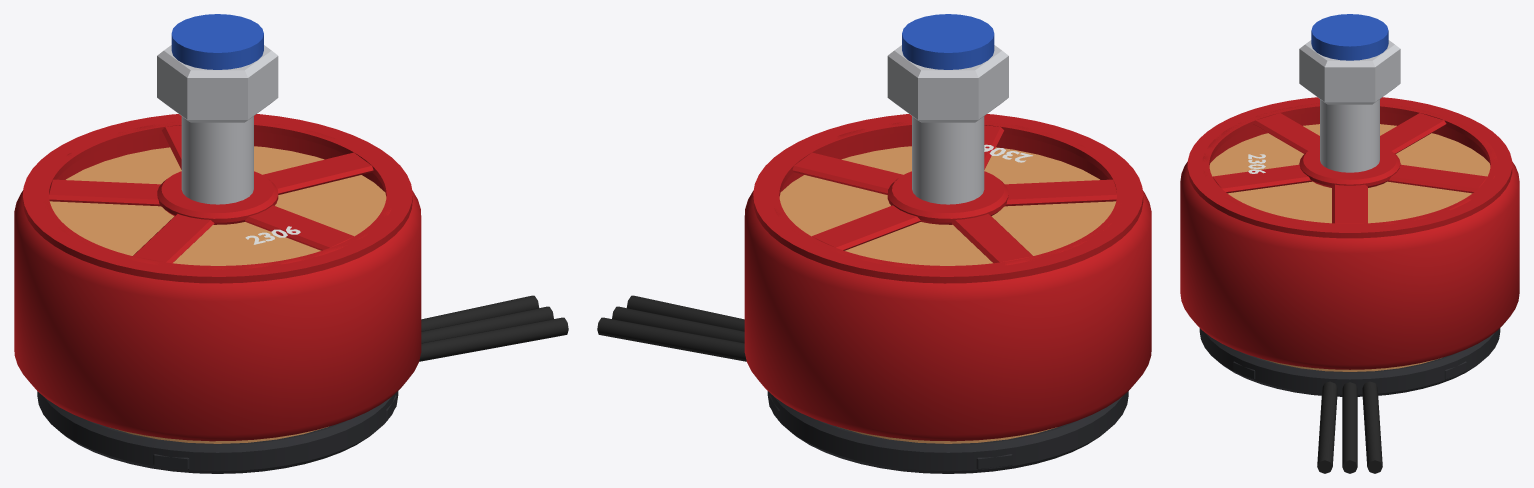
The model's file is motor_m2306.glb.
3 views of the same model, side by side, from view 1: azimuth 30°, elevation 25°; view 2: azimuth 150°, elevation 25°; view 3: azimuth 270°, elevation 25° (orthographic). The views are drawn at different scales.
Parts seen in each view (by area): view 1: motor_campana, motor_techo, techo_cobre, motor_base, motor_tuerca, motor_cables, motor_eje, tuerca_nylon; view 2: motor_campana, motor_techo, techo_cobre, motor_base, motor_tuerca, motor_cables, motor_eje, tuerca_nylon; view 3: motor_campana, motor_techo, techo_cobre, motor_base, motor_tuerca, motor_cables, motor_eje, tuerca_nylon, motor_bobinado.
Boxes of the visible parts, x1,y1,x2,y2 form: motor_campana: [14, 122, 421, 441]; motor_techo: [22, 114, 412, 283]; techo_cobre: [49, 146, 386, 265]; motor_base: [37, 391, 398, 473]; motor_tuerca: [157, 45, 278, 122]; motor_cables: [419, 295, 568, 361]; motor_eje: [181, 116, 253, 204]; tuerca_nylon: [171, 14, 263, 69]; motor_campana: [744, 121, 1151, 441]; motor_techo: [753, 114, 1143, 283]; techo_cobre: [779, 146, 1116, 265]; motor_base: [767, 391, 1128, 473]; motor_tuerca: [887, 45, 1008, 122]; motor_cables: [597, 295, 746, 361]; motor_eje: [912, 116, 984, 204]; tuerca_nylon: [902, 14, 994, 69]; motor_campana: [1180, 103, 1519, 369]; motor_techo: [1187, 97, 1512, 238]; techo_cobre: [1209, 124, 1490, 223]; motor_base: [1199, 328, 1500, 396]; motor_tuerca: [1299, 40, 1400, 104]; motor_cables: [1317, 381, 1382, 473]; motor_eje: [1320, 99, 1379, 172]; tuerca_nylon: [1311, 14, 1388, 60]; motor_bobinado: [1259, 358, 1440, 371].
Bounding box in the file's own units: 0.0406 × 0.0283 × 0.0282.
